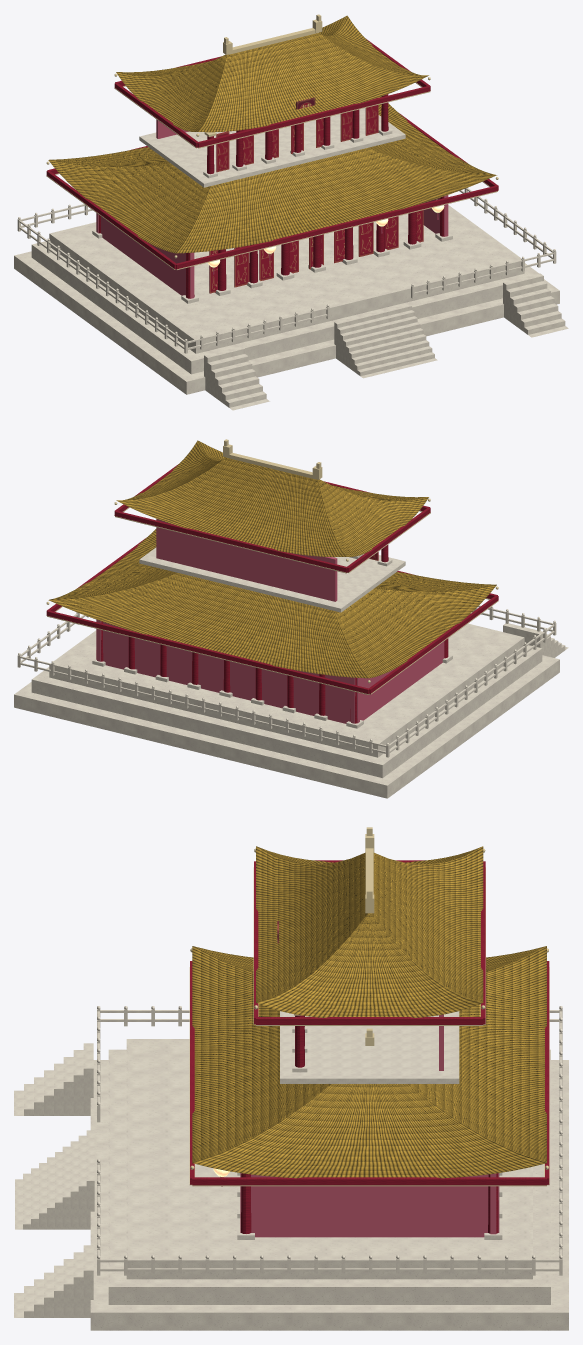
The model's file is palace-placeholder.glb.
3 renders of one model, top to bottom at view 1: azimuth 30°, elevation 25°; view 2: azimuth 150°, elevation 25°; view 3: azimuth 270°, elevation 25°, orthographic. The views are drawn at different scales.
Parts seen in each view (by area): view 1: palace_placeholder; view 2: palace_placeholder; view 3: palace_placeholder.
Boxes of the visible parts, x1=… form: palace_placeholder: x1=14, y1=14, x2=568, y2=410; palace_placeholder: x1=14, y1=439, x2=568, y2=798; palace_placeholder: x1=14, y1=827, x2=568, y2=1330.
Size of the model in its own units: 30 by 19.1 by 27.85.
Materials: 9 (5 with a texture image).
